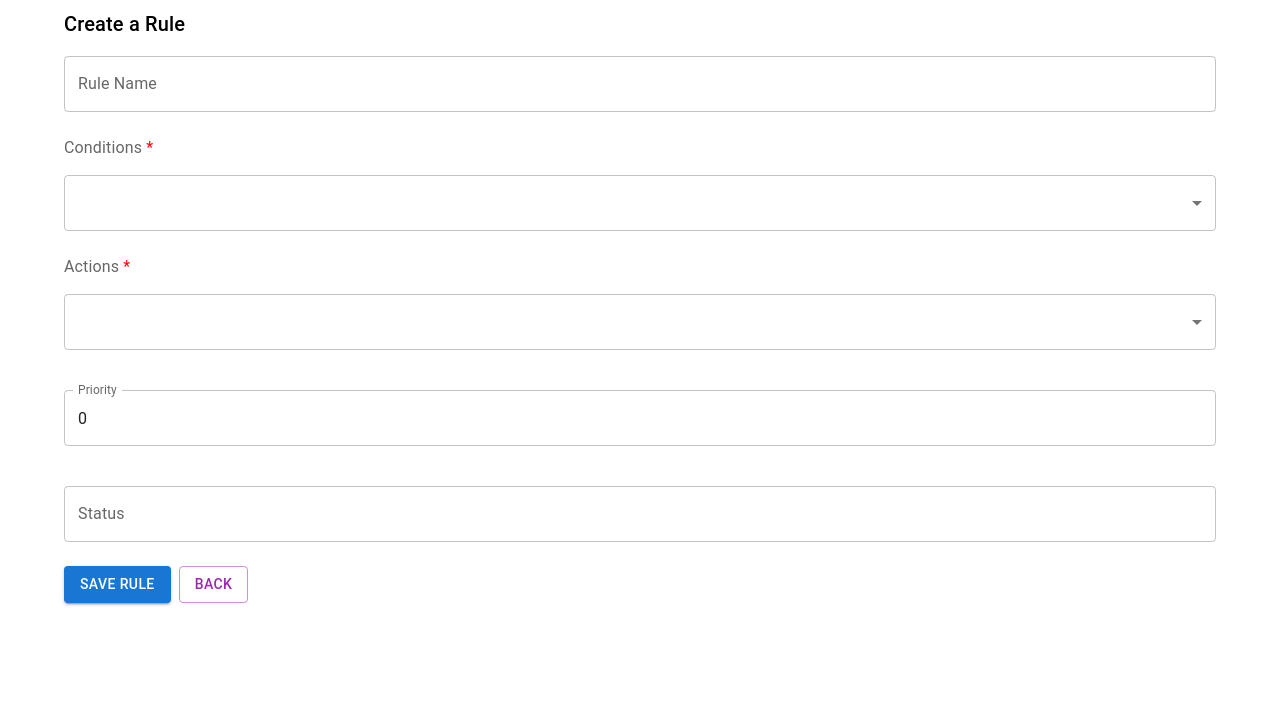
Test case: SingleRuleForm › validates status is not numeric
Type "Test Rule" into the field labelled "Rule Name" at (640, 84), box [64,56,1216,112]
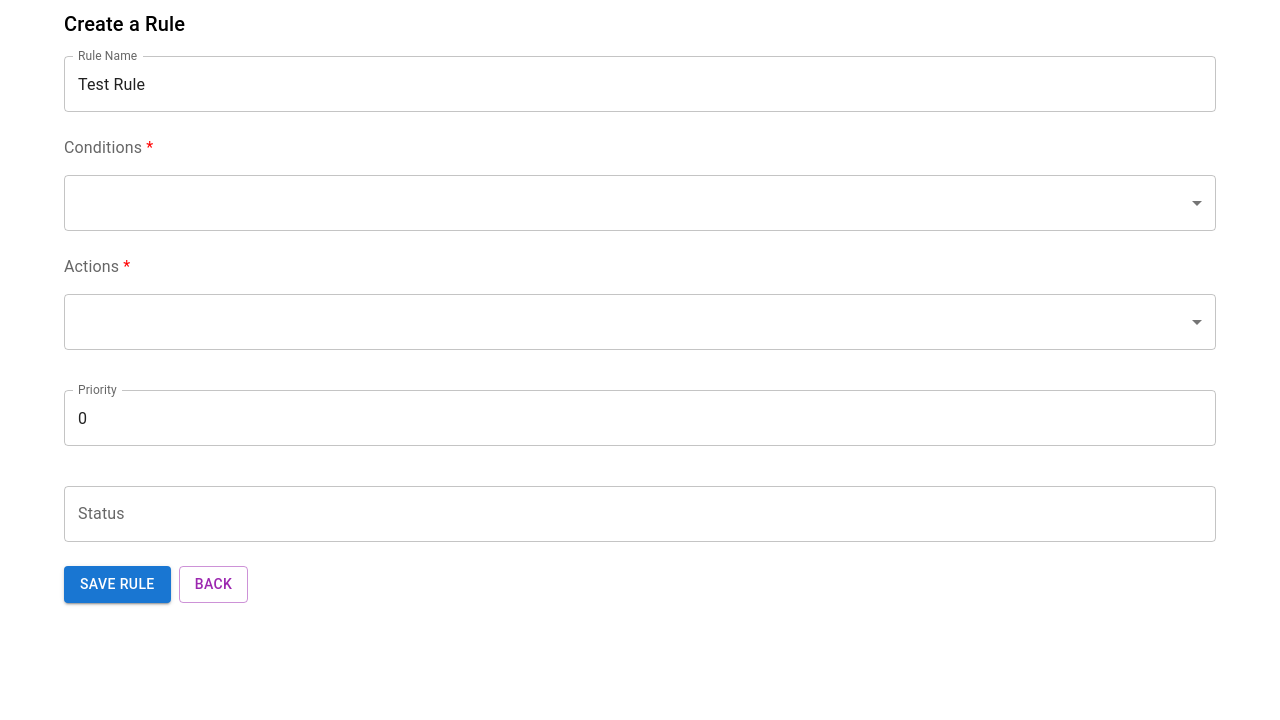
Replace the text in the number field labelled "Priority" with "1" at (640, 418), box [64,390,1216,446]
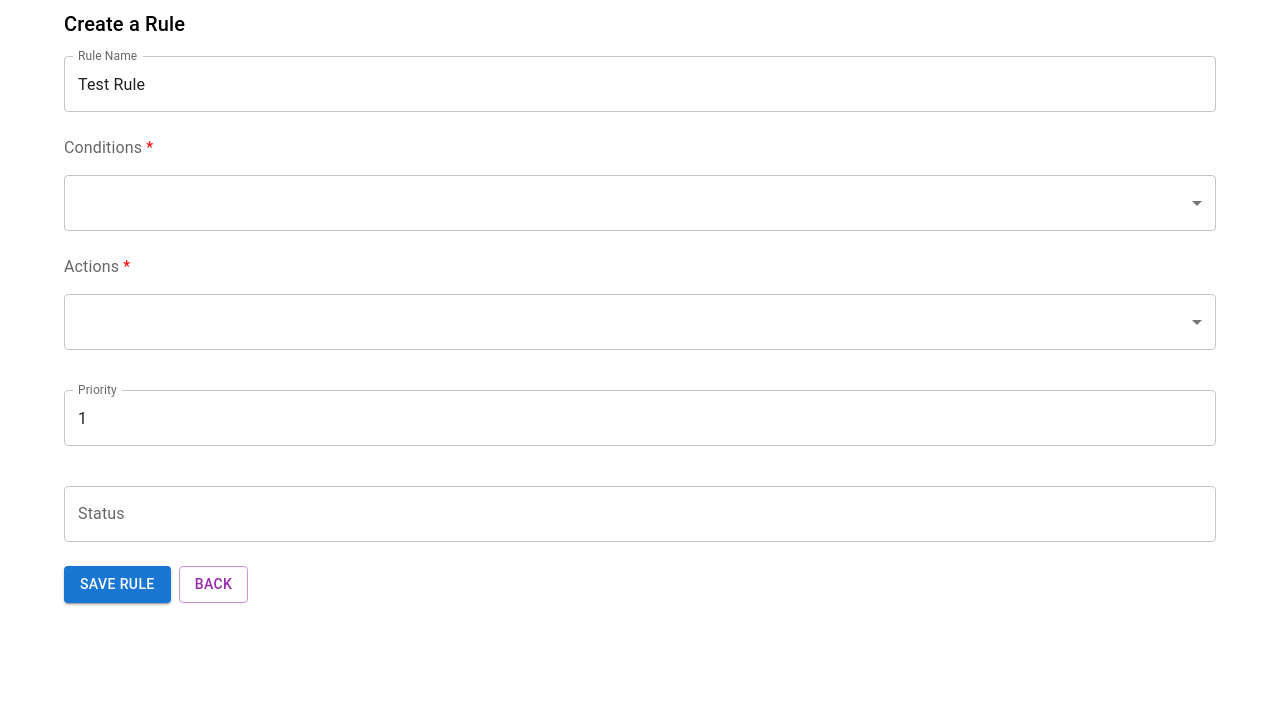
Type "123" into the field labelled "Status" at (640, 514), box [64,486,1216,542]
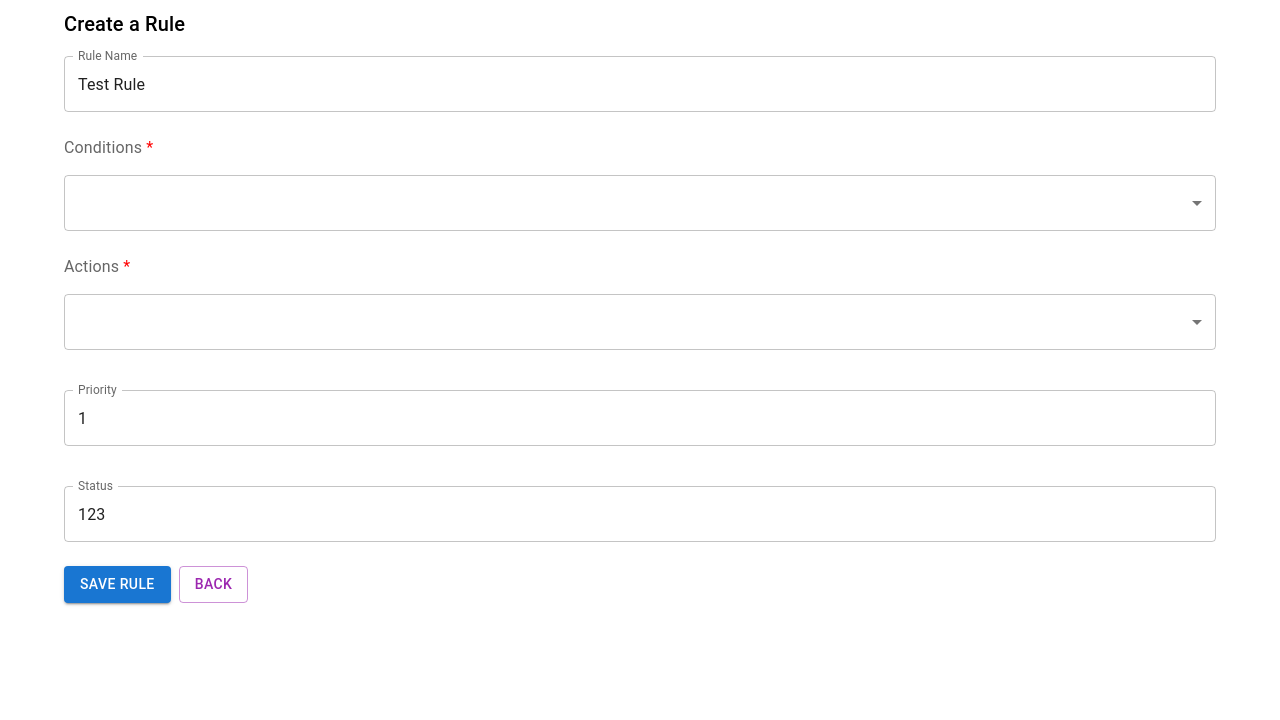
Click the button "Save Rule" at (117, 584), box [64,566,171,602]
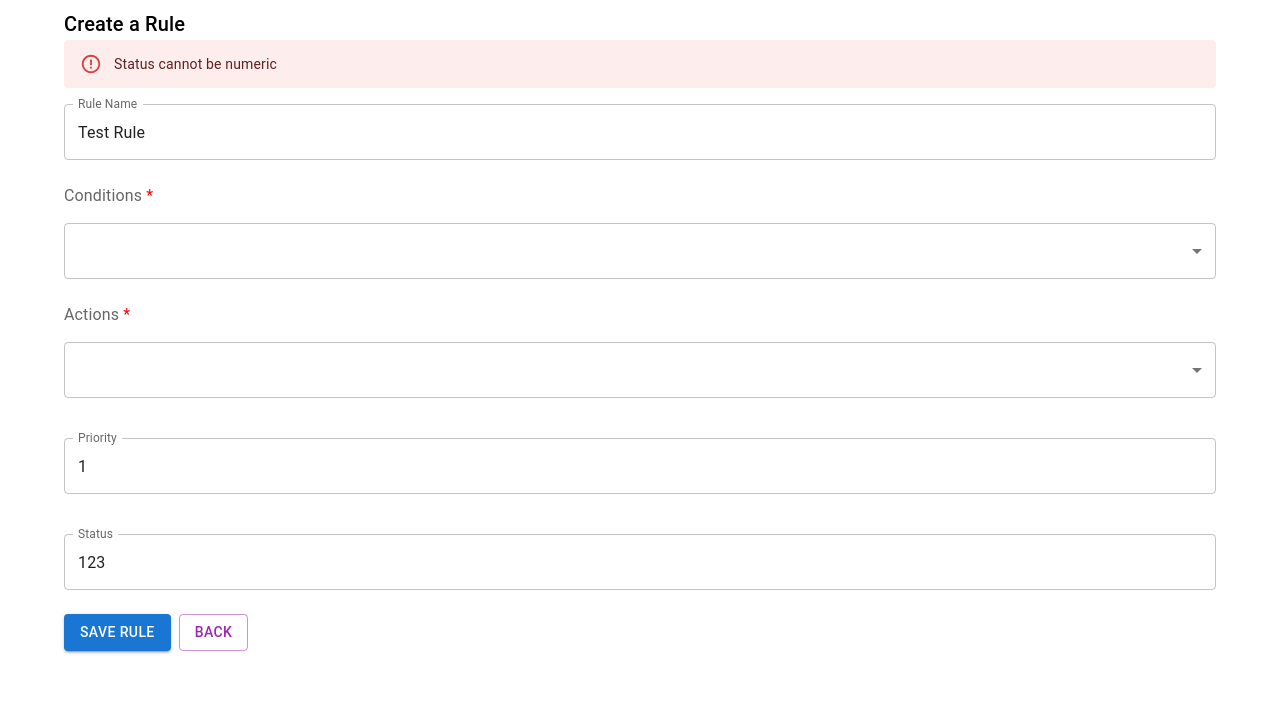
Expected: the text "Status cannot be numeric" is shown, [114,56,277,72]
